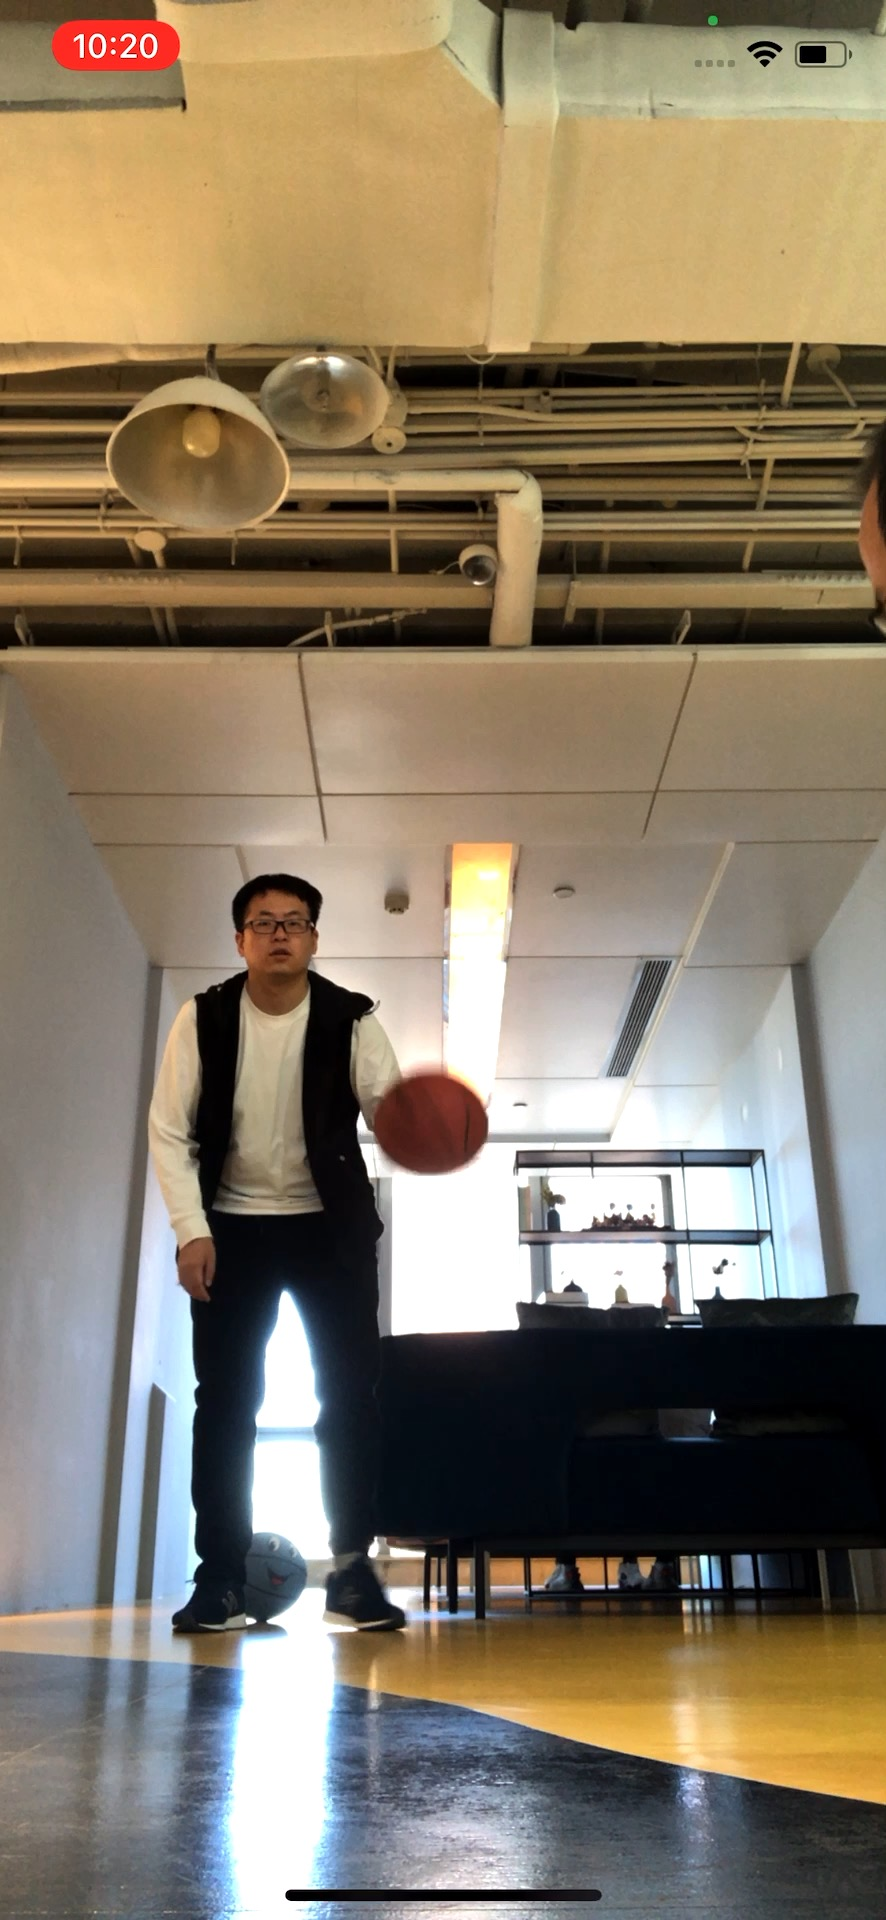ball: (376, 1071, 490, 1178)
